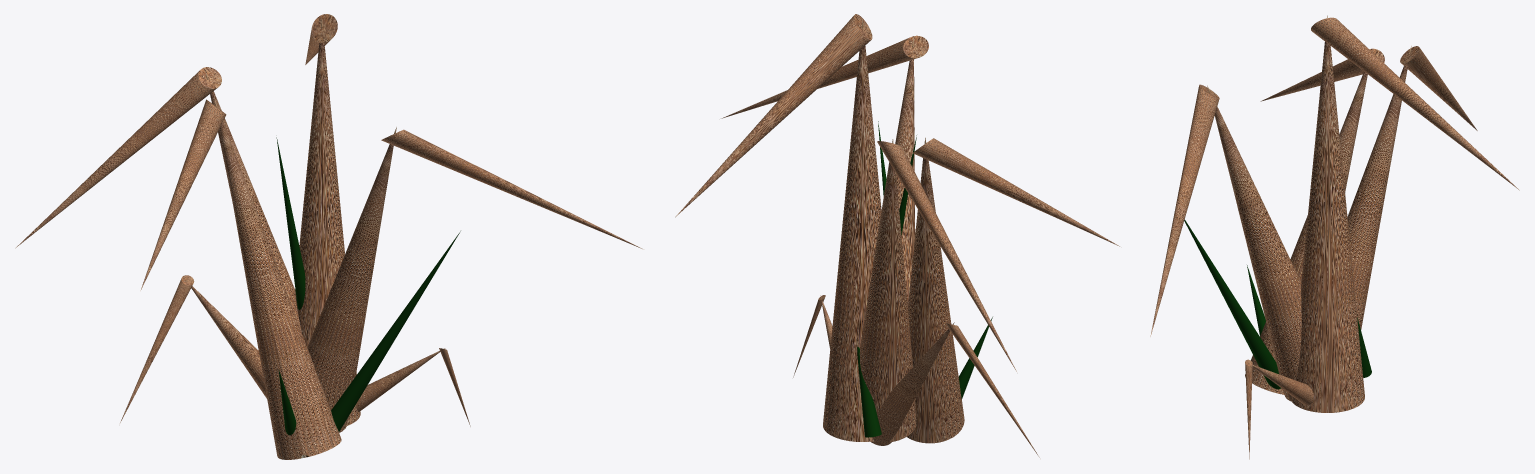
File: deadplant.dae
The picture shows the model from 3 angles, left to right: view 1: azimuth 30°, elevation 25°; view 2: azimuth 150°, elevation 25°; view 3: azimuth 270°, elevation 25°; orthographic projection. The views are drawn at different scales.
Parts seen in each view (by area): view 1: Cone_005, Cone_000, Cone_001; view 2: Cone_005, Cone_000, Cone_001; view 3: Cone_005, Cone_000.
Boxes of the visible parts, left/top/right/bottom form: Cone_005: left=15, top=14, right=643, bottom=459; Cone_000: left=331, top=231, right=460, bottom=431; Cone_001: left=276, top=137, right=305, bottom=435; Cone_005: left=675, top=14, right=1119, bottom=457; Cone_000: left=857, top=121, right=886, bottom=437; Cone_001: left=899, top=135, right=992, bottom=399; Cone_005: left=1150, top=15, right=1519, bottom=459; Cone_000: left=1184, top=219, right=1371, bottom=389.
Size of the model in its own units: 12.73 by 9.19 by 10.86.
3 materials, 1 textured.
